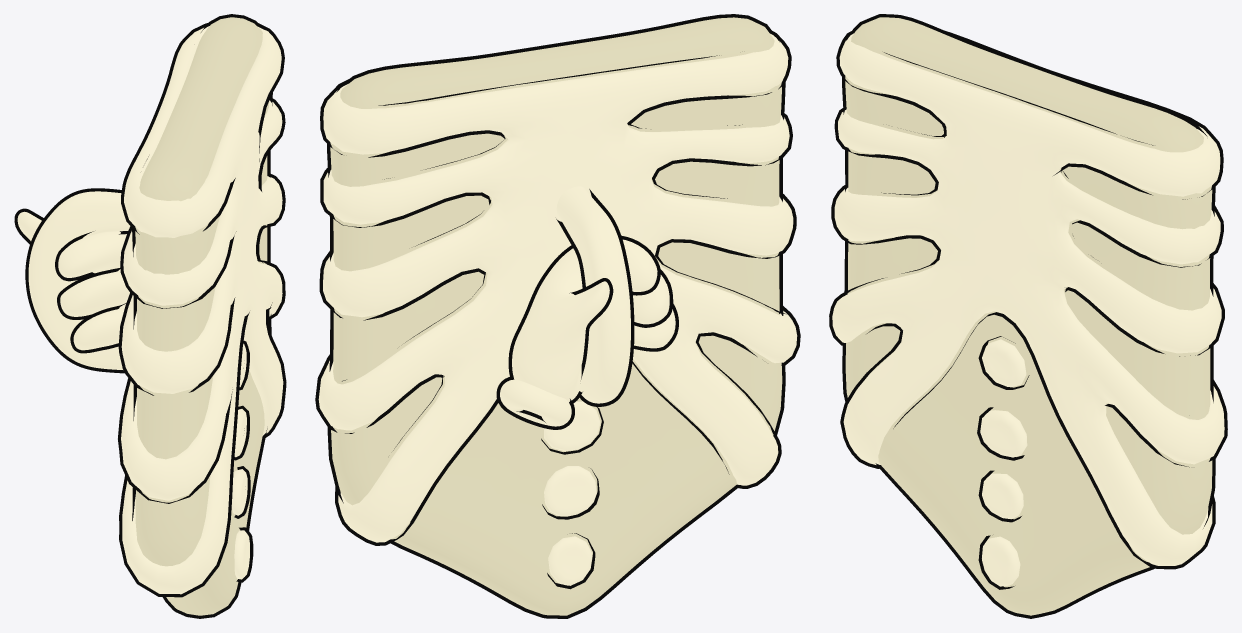
File: LH.BIOLOGY.SKELETON.glb
3 renders of one model, left to right at view 1: azimuth 30°, elevation 25°; view 2: azimuth 150°, elevation 25°; view 3: azimuth 270°, elevation 25°, orthographic. The views are drawn at different scales.
Parts seen in each view (by area): view 1: LH.BIOLOGY.SKELETON; view 2: LH.BIOLOGY.SKELETON; view 3: LH.BIOLOGY.SKELETON.
Boxes of the visible parts, x1=… form: LH.BIOLOGY.SKELETON: x1=14, y1=14, x2=286, y2=618; LH.BIOLOGY.SKELETON: x1=315, y1=14, x2=800, y2=618; LH.BIOLOGY.SKELETON: x1=829, y1=14, x2=1227, y2=618.
Size of the model in its own units: 1.06 by 1.82 by 1.2.
